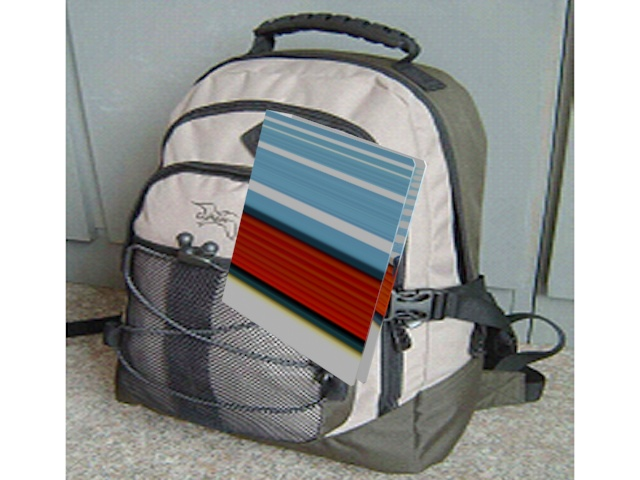ring_binder: (217, 96, 433, 392)
